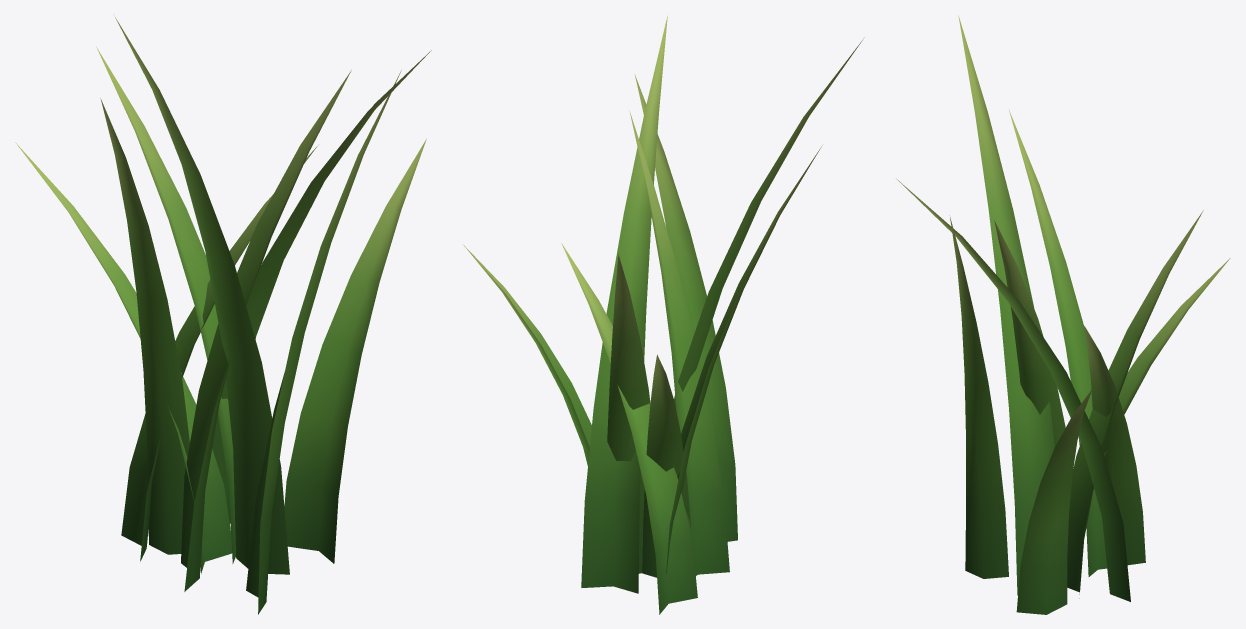
Rendered from Grass_B.fbx.
The picture shows the model from 3 angles, left to right: view 1: azimuth 30°, elevation 25°; view 2: azimuth 150°, elevation 25°; view 3: azimuth 270°, elevation 25°; orthographic projection. The views are drawn at different scales.
Visible parts, largest first — view 1: Grass_B; view 2: Grass_B; view 3: Grass_B.
Part boxes in pixels (x1,y1,x2,y2): Grass_B: (15, 14, 431, 614); Grass_B: (463, 16, 864, 614); Grass_B: (896, 15, 1230, 614).
Bounding box in the file's own units: 2.14 × 3.29 × 2.01.
